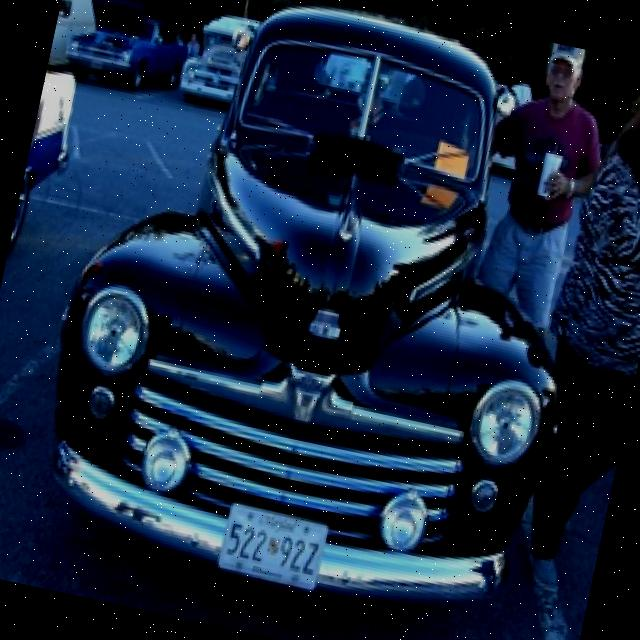Autre: (215, 500, 329, 590)
